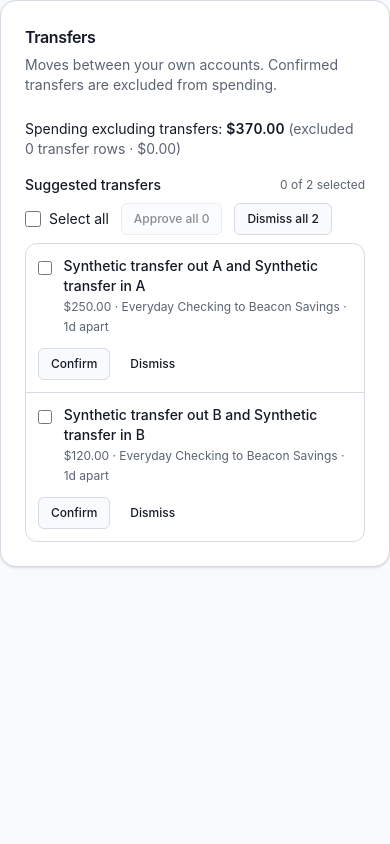
it: transfers section › toggles select-all and select-none
Click the checkbox named "Select all suggested transfers". click: x=33, y=219
box: [25, 211, 41, 227]
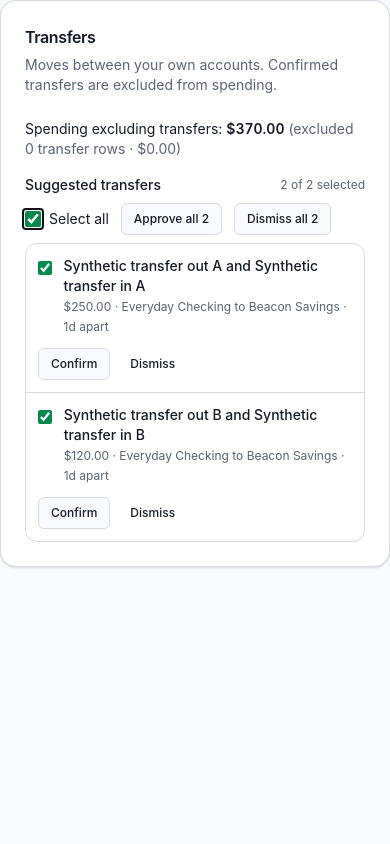
expect the text "2 of 2 selected" is shown: met, box [280, 177, 365, 193]
expect the button "Approve all 2" is enabled: met, box [121, 203, 222, 235]
expect the checkbox named "Select transfer Synthetic transfer out A and Synthetic transfer in A" is checked: met, box [38, 260, 52, 276]
Click the checkbox named "Select all suggested transfers". click: x=33, y=219
box: [25, 211, 41, 227]
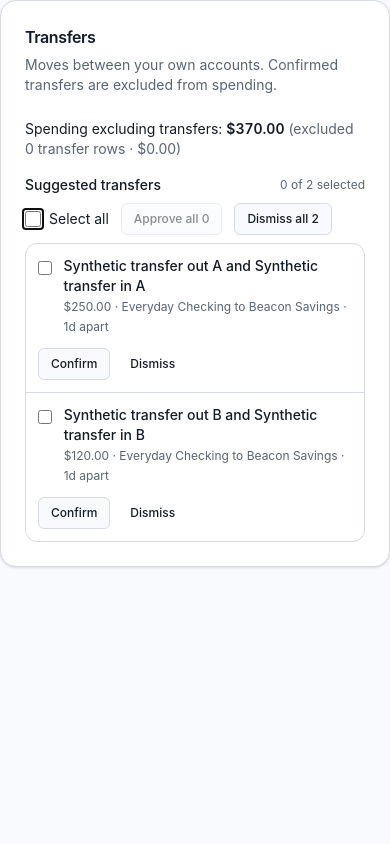
expect the text "0 of 2 selected" is shown: met, box [280, 177, 365, 193]
expect the button "Approve all 0" is disabled: met, box [121, 203, 222, 235]
